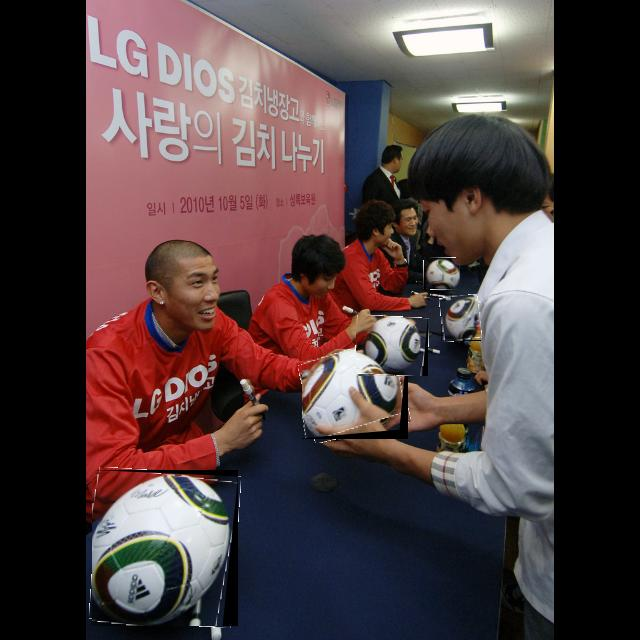Football: (92, 470, 238, 626), (302, 349, 408, 439), (356, 316, 428, 376), (441, 295, 481, 341), (424, 258, 460, 290)
